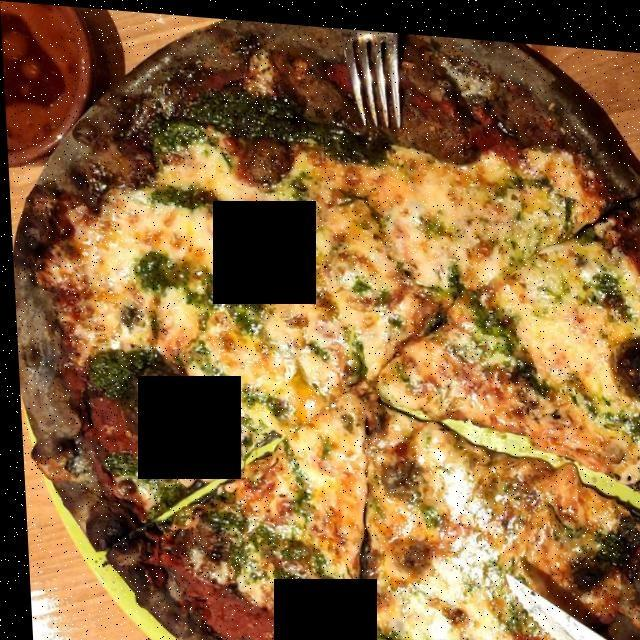pizza: (29, 41, 640, 640)
sauce: (83, 82, 640, 631)
